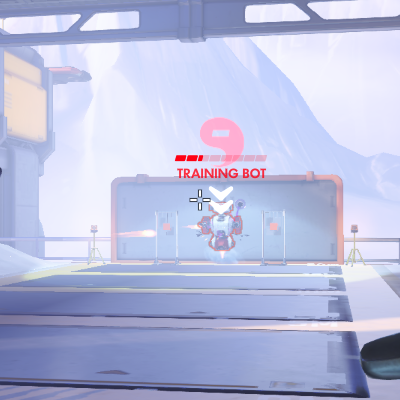hpbar: (174, 154, 268, 162)
